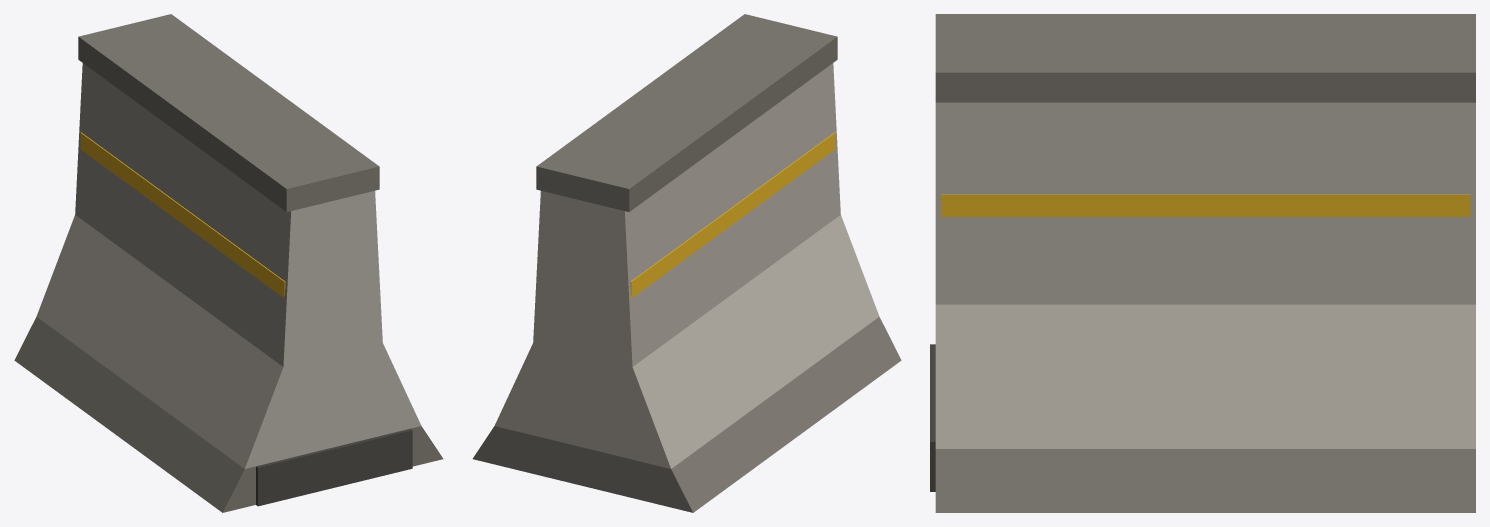
File: wall.obj
The picture shows the model from 3 angles, left to right: view 1: azimuth 30°, elevation 25°; view 2: azimuth 150°, elevation 25°; view 3: azimuth 270°, elevation 25°; orthographic projection. The views are drawn at different scales.
Parts seen in each view (by area): view 1: wall; view 2: wall; view 3: wall.
Boxes of the visible parts, <box> form: wall: <box>14,14,443,512</box>; wall: <box>472,14,901,512</box>; wall: <box>930,14,1475,512</box>.
Bounding box in the file's own units: 3 × 4 × 4.95.
